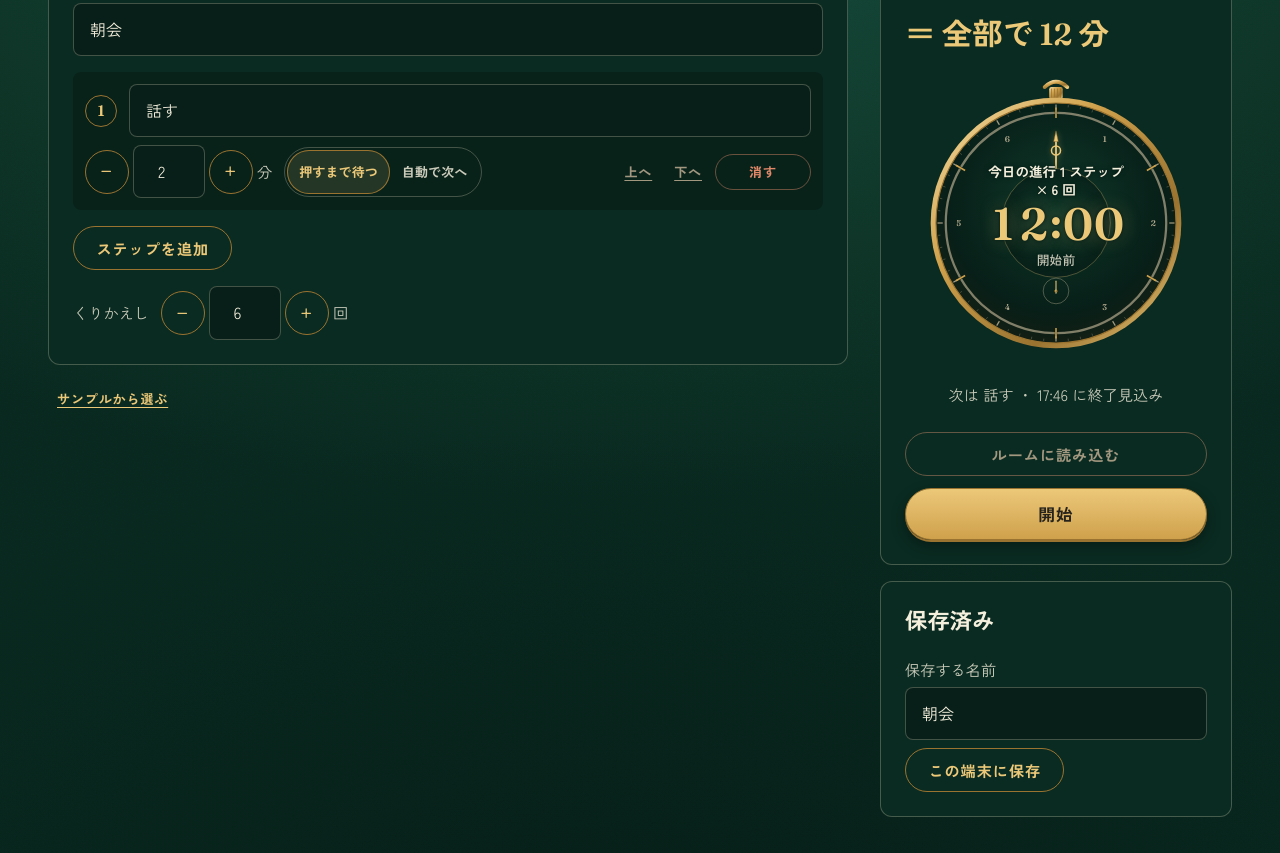
Scenario: 組む画面 › Given 保存済みの回数 6 の朝会 / When 一覧を見る / Then 全部の分と回数を出す
(page scrolled)
Click the button "この端末に保存": (985,770) [905, 748, 1064, 792]
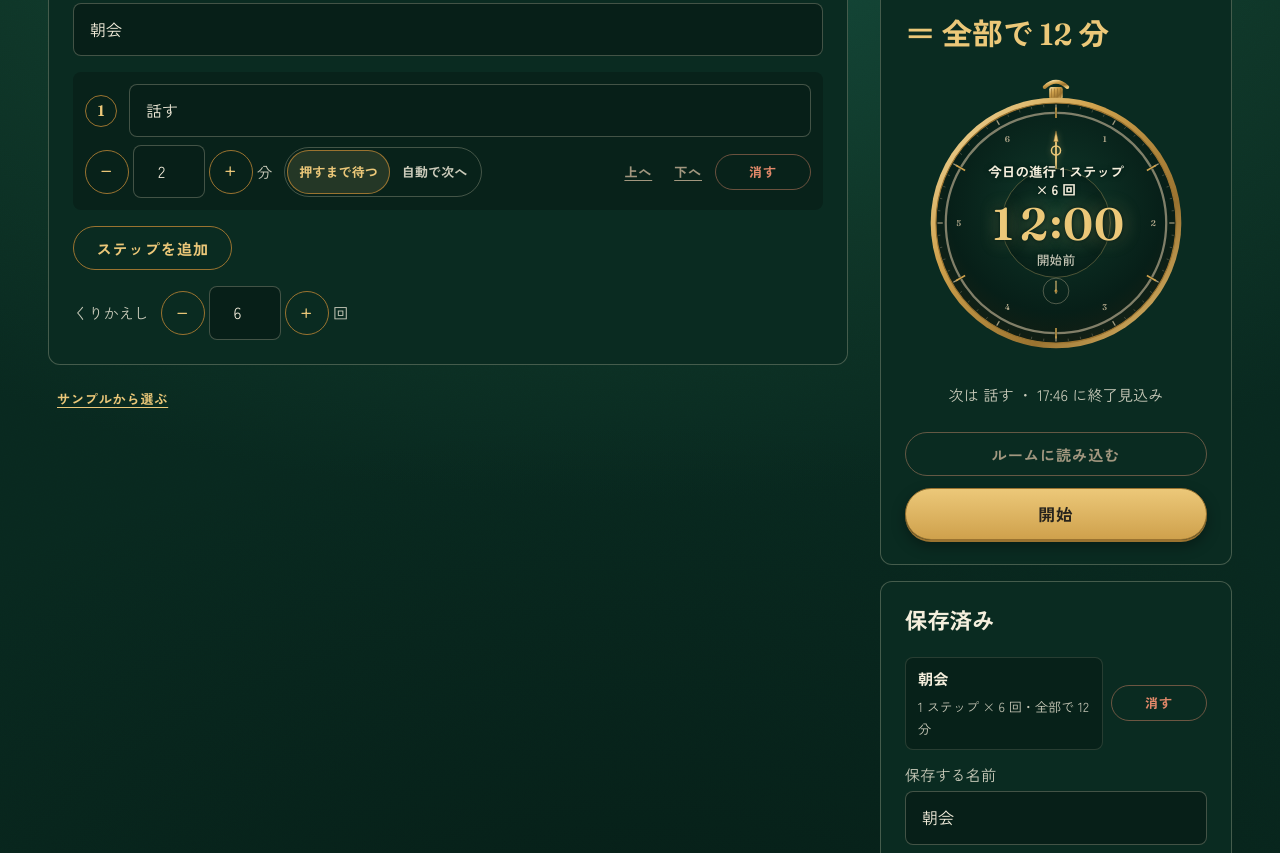
Check: the text "1 ステップ × 6 回・全部で 12 分" is shown, box [918, 696, 1090, 740]
